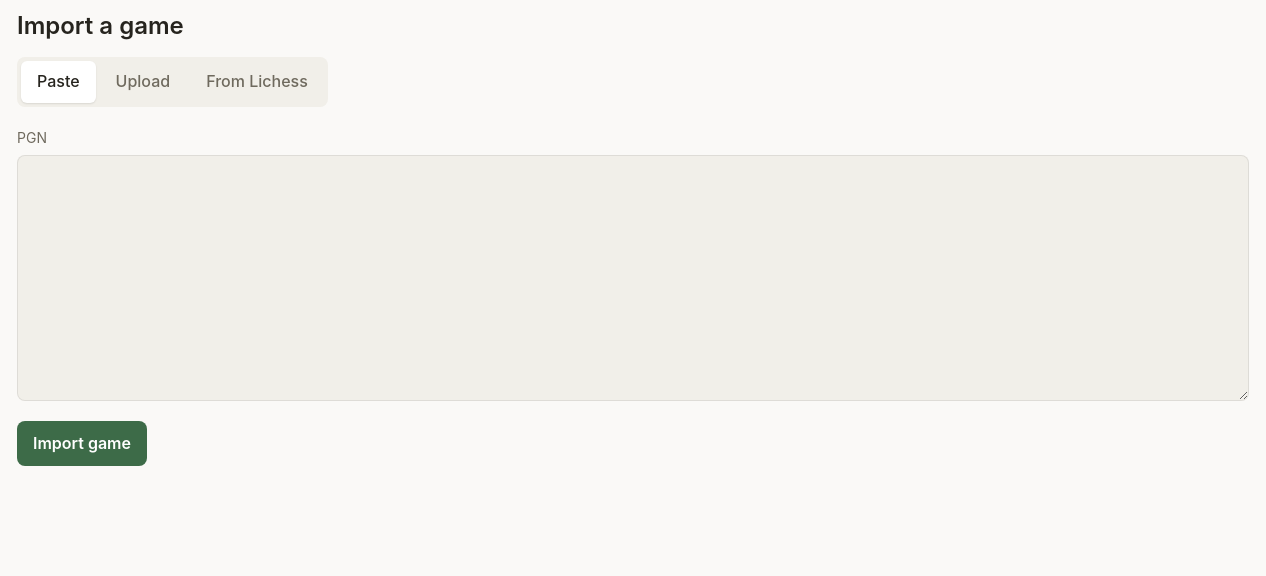
Test: ImportPage › a rate-limited import surfaces the problem+json title instead of failing silently
The width and height of the screenshot is (1266, 576).
Type "1. e4 e5" into the text box labelled "PGN" at x=633, y=278, box [17, 155, 1249, 401]
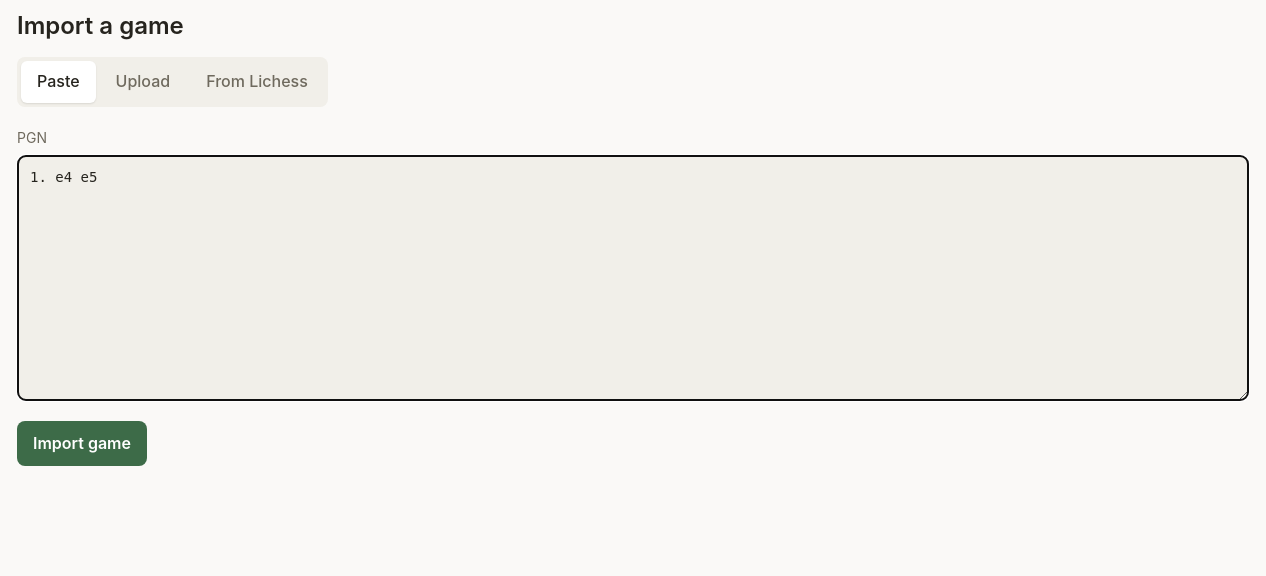
Click the button "Import game" at x=82, y=444, box [17, 421, 147, 466]
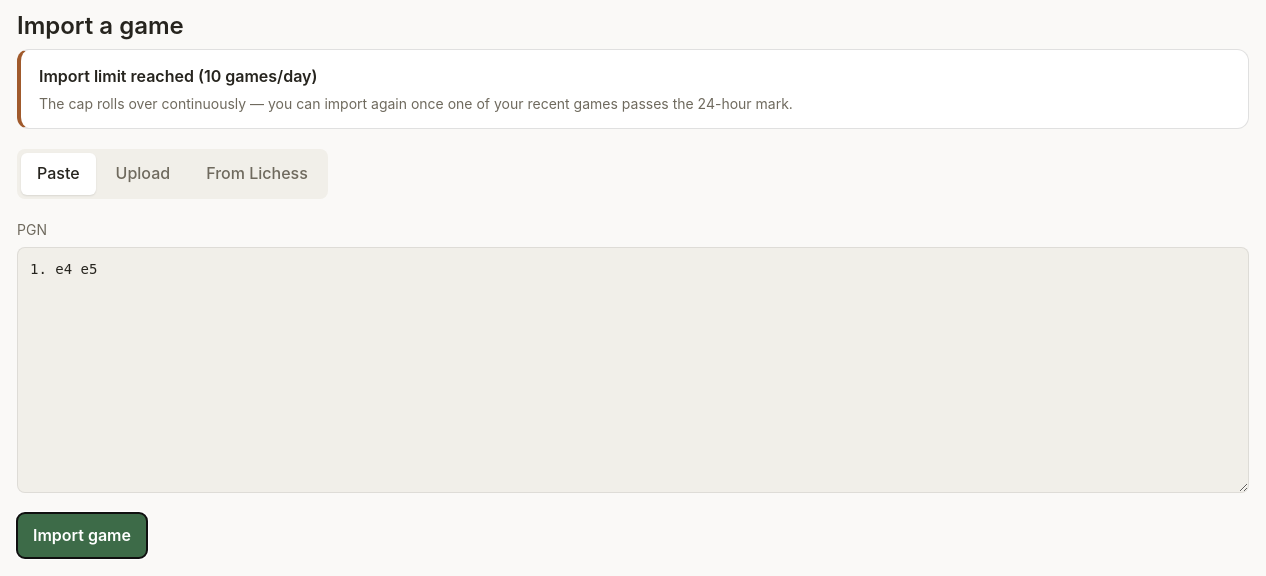
Expected: the message shows "Import limit reached (10 games/day)", [39, 66, 318, 86]
